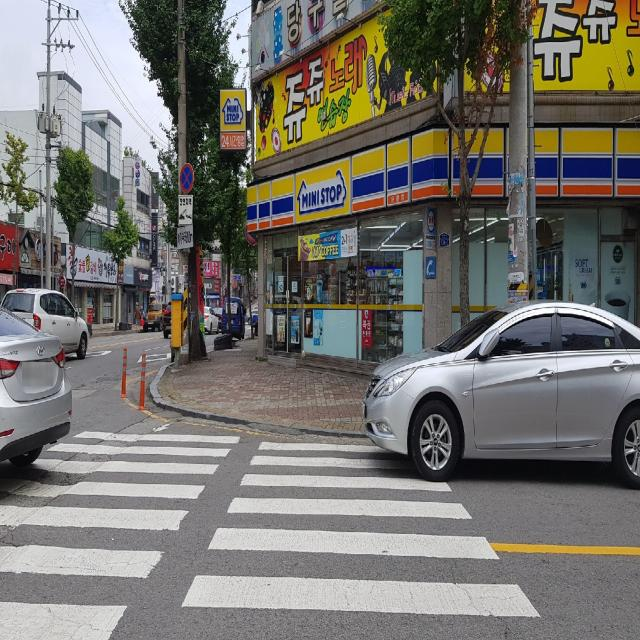횡단보도: (0, 421, 543, 640)
